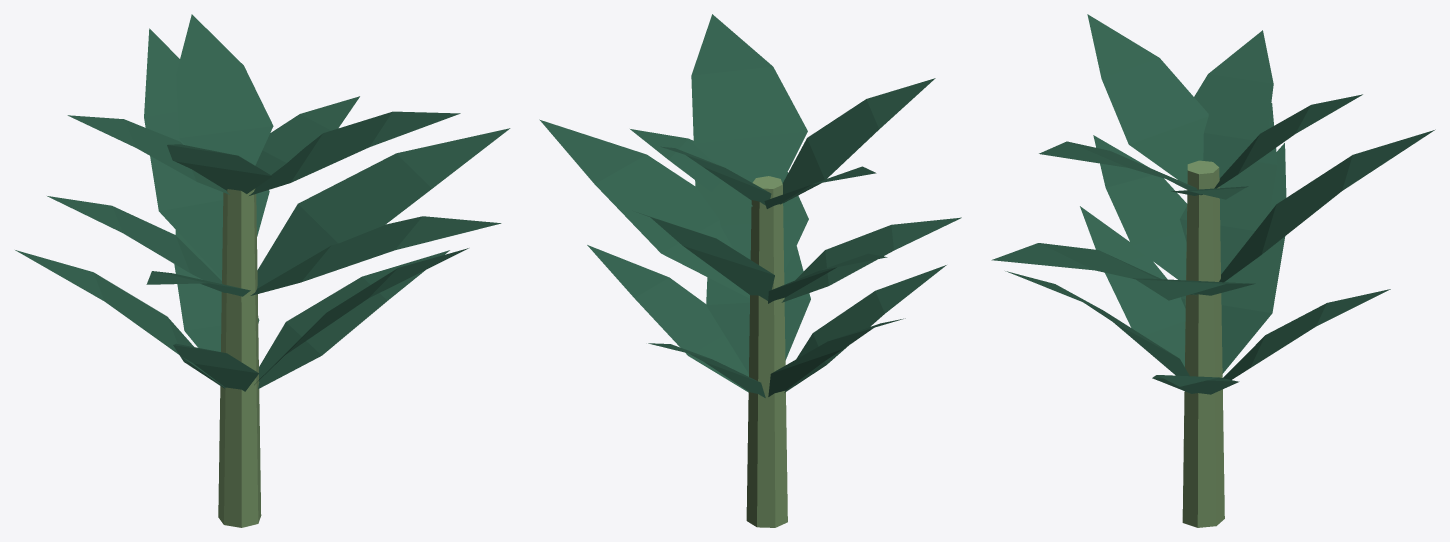
File: kale.glb
3 renders of one model, left to right at view 1: azimuth 30°, elevation 25°; view 2: azimuth 150°, elevation 25°; view 3: azimuth 270°, elevation 25°, orthographic. The views are drawn at different scales.
Parts seen in each view (by area): view 1: kale; view 2: kale; view 3: kale.
Part boxes in pixels (left/top/right/bottom): kale: left=15, top=14, right=510, bottom=527; kale: left=539, top=14, right=961, bottom=527; kale: left=991, top=14, right=1435, bottom=527.
Size of the model in its own units: 0.4598 by 0.4454 by 0.4013.
